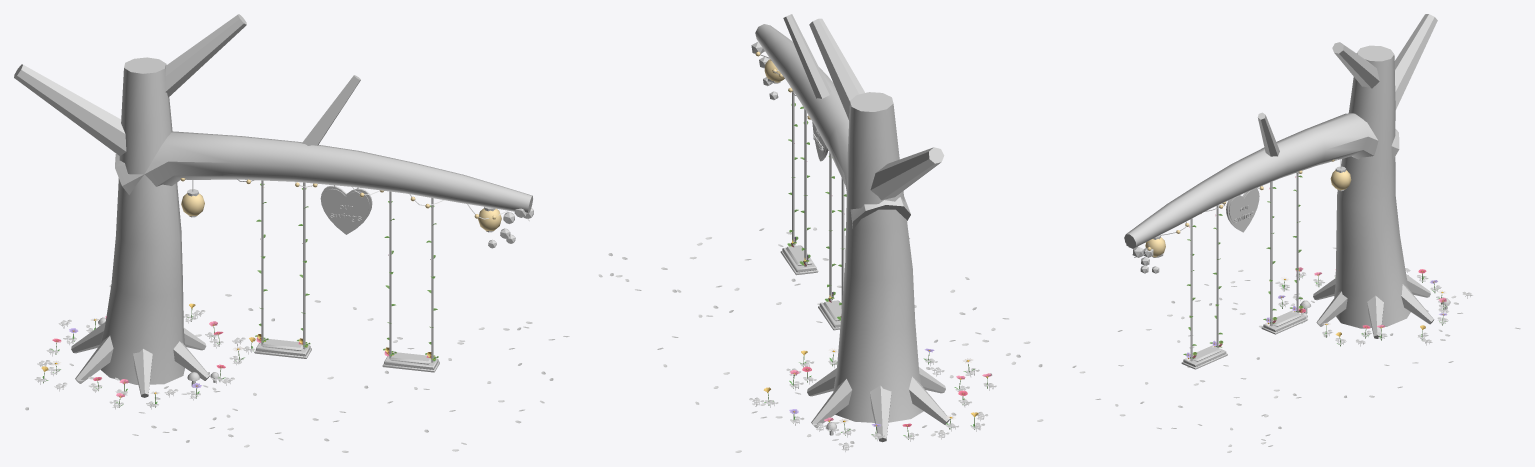
Rendered from zon_lake_swings.glb.
3 renders of one model, left to right at view 1: azimuth 30°, elevation 25°; view 2: azimuth 150°, elevation 25°; view 3: azimuth 270°, elevation 25°, orthographic. The views are drawn at different scales.
Visible parts, largest first — view 1: SM_zon_lake_swings_kit_lake_x0_zm1_LOD0, ANIM_prp_lake_swing_lilac_arm__0, ANIM_prp_lake_swing_pink_arm__0, SM_zon_lake_swings_glow_vc_x0_zm1, SM_zon_lake_swings_vc_palette_x0_zm1; view 2: SM_zon_lake_swings_kit_lake_x0_zm1_LOD0, ANIM_prp_lake_swing_lilac_arm__0, ANIM_prp_lake_swing_pink_arm__0, SM_zon_lake_swings_vc_palette_x0_zm1; view 3: SM_zon_lake_swings_kit_lake_x0_zm1_LOD0, ANIM_prp_lake_swing_lilac_arm__0, ANIM_prp_lake_swing_pink_arm__0, SM_zon_lake_swings_glow_vc_x0_zm1, SM_zon_lake_swings_vc_palette_x0_zm1.
Boxes of the visible parts, <box> form: SM_zon_lake_swings_kit_lake_x0_zm1_LOD0: <box>14,14,569,452</box>; ANIM_prp_lake_swing_lilac_arm__0: <box>382,191,439,372</box>; ANIM_prp_lake_swing_pink_arm__0: <box>254,180,311,358</box>; SM_zon_lake_swings_glow_vc_x0_zm1: <box>180,178,501,231</box>; SM_zon_lake_swings_vc_palette_x0_zm1: <box>41,303,255,407</box>; SM_zon_lake_swings_kit_lake_x0_zm1_LOD0: <box>598,14,1043,452</box>; ANIM_prp_lake_swing_lilac_arm__0: <box>780,91,818,275</box>; ANIM_prp_lake_swing_pink_arm__0: <box>818,152,844,330</box>; SM_zon_lake_swings_vc_palette_x0_zm1: <box>763,348,991,439</box>; SM_zon_lake_swings_kit_lake_x0_zm1_LOD0: <box>1072,14,1520,452</box>; ANIM_prp_lake_swing_lilac_arm__0: <box>1181,205,1227,369</box>; ANIM_prp_lake_swing_pink_arm__0: <box>1261,172,1307,334</box>; SM_zon_lake_swings_glow_vc_x0_zm1: <box>1145,159,1351,257</box>; SM_zon_lake_swings_vc_palette_x0_zm1: <box>1278,267,1447,346</box>.
Bounding box in the file's own units: 9.3 × 6.41 × 8.57.
